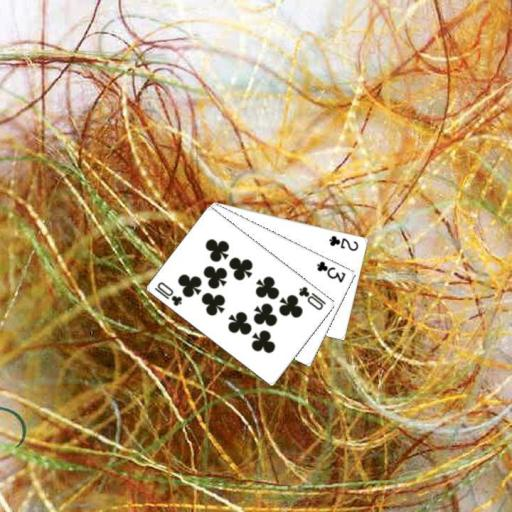10C: (296, 283, 328, 311), (152, 279, 184, 307)
2C: (326, 233, 360, 253)
3C: (314, 257, 348, 284)
